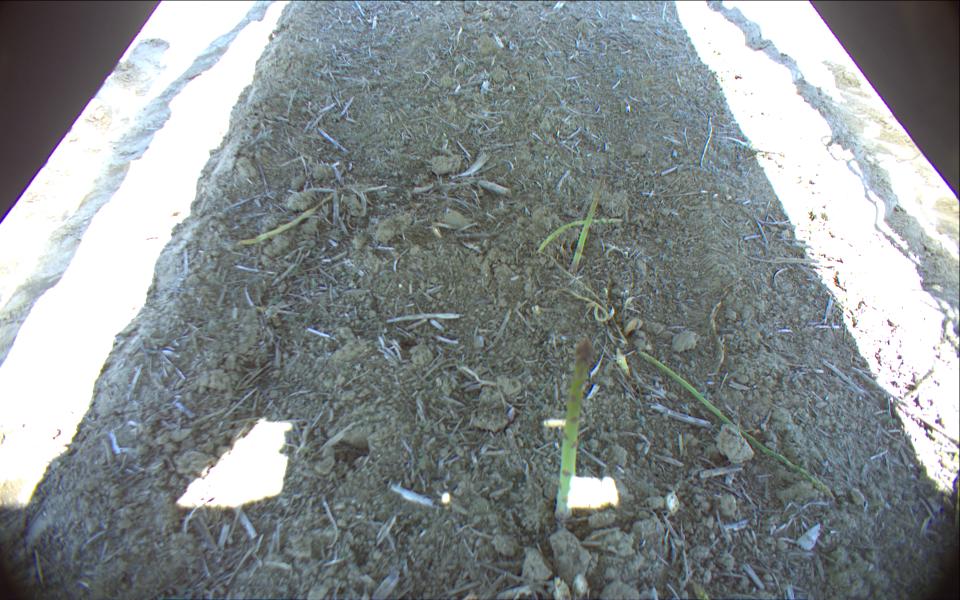aspa: (554, 334, 594, 528), (567, 180, 601, 274)
